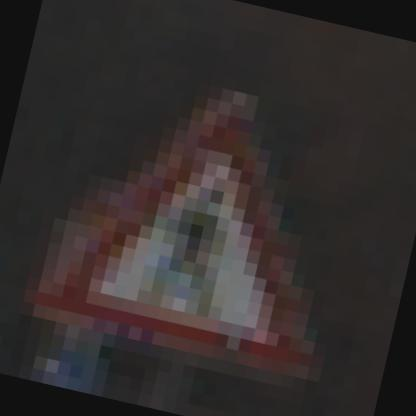crosswalk: (25, 78, 354, 396)
